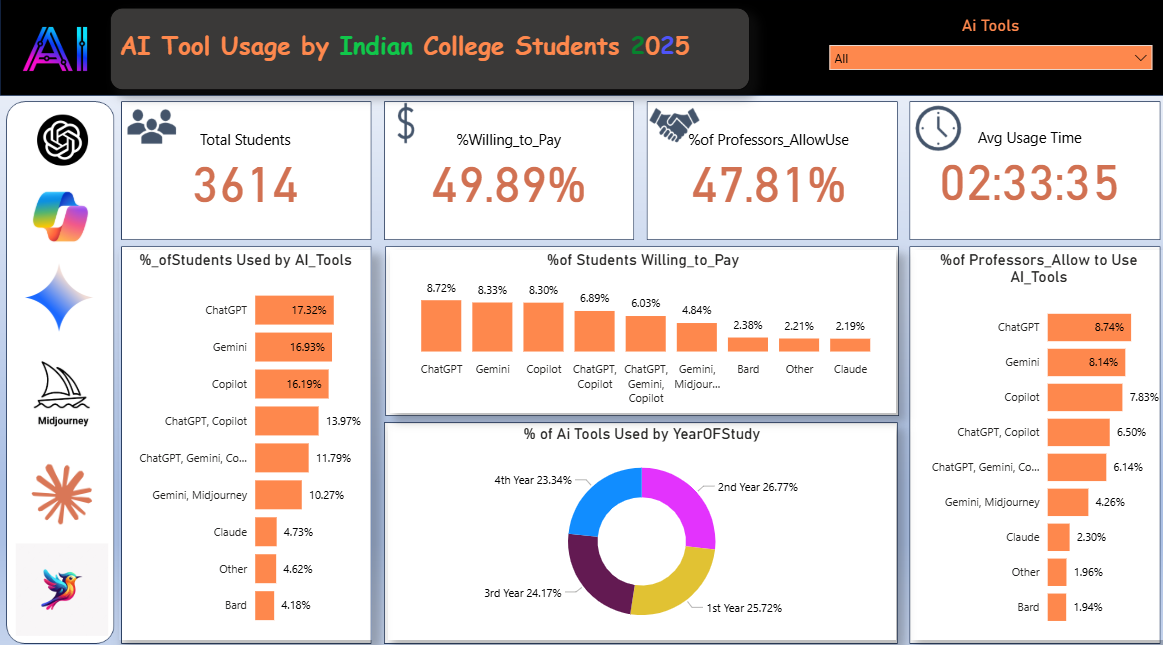

The dashboard page shown, as its layout file describes it:
{"tool":"powerbi","page":{"name":"MainPage","canvas":[1280,720],"ordinal":0},"visuals":[{"type":"cardVisual","title":"% of Students Willing to Pay","fields":{"Data":["Measures (2).%Willing_to_Pay"]},"box":[425.4,113.9,266.2,148.2],"z":0},{"type":"cardVisual","title":"% of Professors Allow to Use","fields":{"Data":["Measures (2).%of Professors_AllowUse"]},"box":[706.7,113.9,274.4,148.2],"z":1000},{"type":"cardVisual","title":"Avg usage time","fields":{"Data":["Measures (2).// Average usage time measureAvg Usage Time"]},"box":[994.9,109.8,271.7,152.3],"z":2000},{"type":"clusteredBarChart","title":"%_ofStudents Used by AI_Tools","fields":{"Category":["Students.AI_Tools_Used"],"Y":["Measures (2).%of_Students"]},"box":[130.4,275.8,278.6,428.1],"z":3000},{"type":"columnChart","title":"%of Students Willing_to_Pay","fields":{"Category":["Students.AI_Tools_Used"],"Y":["Measures (2).%Willing_to_Pay"]},"box":[428.1,275.8,555.7,178.4],"z":4000},{"type":"slicer","title":"Ai Tools ","fields":{"Values":["Students.AI_Tools_Used"]},"box":[900.2,17.8,374.6,72.7],"z":5000},{"type":"donutChart","fields":{"Category":["Students.YearOFStudy"],"Y":["Measures (2).% of Ai Tools Used"]},"box":[425.4,466.6,558.5,237.4],"z":6000},{"type":"textbox","box":[120.8,9.6,702.6,90.6],"z":7000},{"type":"image","box":[0,0,120.8,109.8],"z":8000},{"type":"clusteredBarChart","title":"%of Professors_Allow to Use  AI_Tools","fields":{"Category":["Students.AI_Tools_Used"],"Y":["Measures (2).%of Professors_AllowUse"]},"box":[1000.3,275.8,279.9,428.1],"z":9000},{"type":"image","box":[24.7,122.1,87.8,65.9],"z":10000},{"type":"image","box":[9.6,201.7,113.9,74.1],"z":11000},{"type":"image","box":[9.6,281.3,111.1,93.3],"z":12000},{"type":"image","box":[9.6,388.3,120.8,101.5],"z":13000},{"type":"image","box":[15.1,502.2,105.7,83.7],"z":14000},{"type":"image","box":[12.3,592.8,111.1,111.1],"z":15000},{"type":"cardVisual","fields":{"Data":["Measures (2).Total Students"]},"box":[130.4,112.5,278.6,152.3],"z":16000}]}

Visuals, with their boxes in screenshot pixels (x1, y1, x2, y2), scaled from the page's 1280x720 canvas onto the 1163x645 screenshot:
"% of Students Willing to Pay" cardVisual: (387, 102, 628, 235)
"% of Professors Allow to Use" cardVisual: (642, 102, 891, 235)
"Avg usage time" cardVisual: (904, 98, 1151, 235)
"%_ofStudents Used by AI_Tools" clusteredBarChart: (118, 247, 372, 631)
"%of Students Willing_to_Pay" columnChart: (389, 247, 894, 407)
"Ai Tools " slicer: (818, 16, 1158, 81)
donutChart - Students.YearOFStudy x Measures (2).% of Ai Tools Used: (387, 418, 894, 631)
textbox: (110, 9, 748, 90)
image: (0, 0, 110, 98)
"%of Professors_Allow to Use  AI_Tools" clusteredBarChart: (909, 247, 1162, 631)
image: (22, 109, 102, 168)
image: (9, 181, 112, 247)
image: (9, 252, 110, 336)
image: (9, 348, 118, 439)
image: (14, 450, 110, 525)
image: (11, 531, 112, 631)
cardVisual - Measures (2).Total Students: (118, 101, 372, 237)
